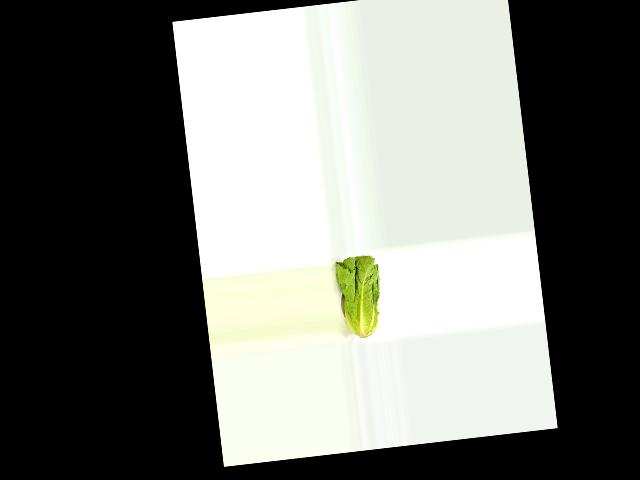lettuce: (333, 253, 388, 341)
